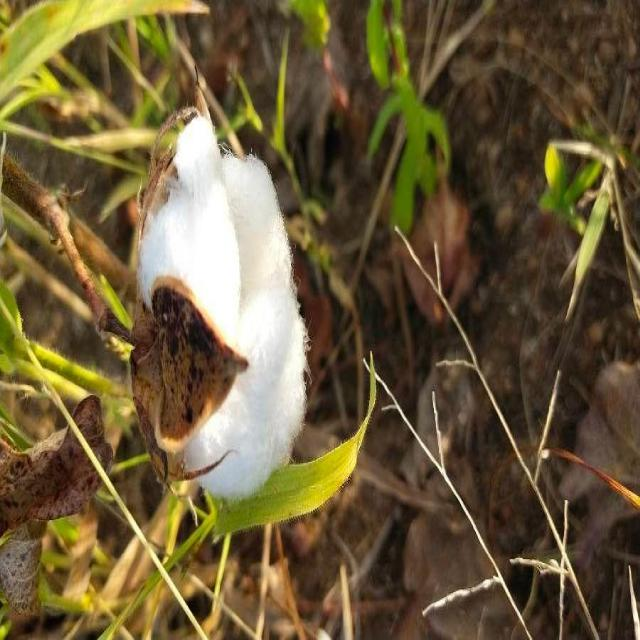Early_blight: (137, 111, 310, 503)
